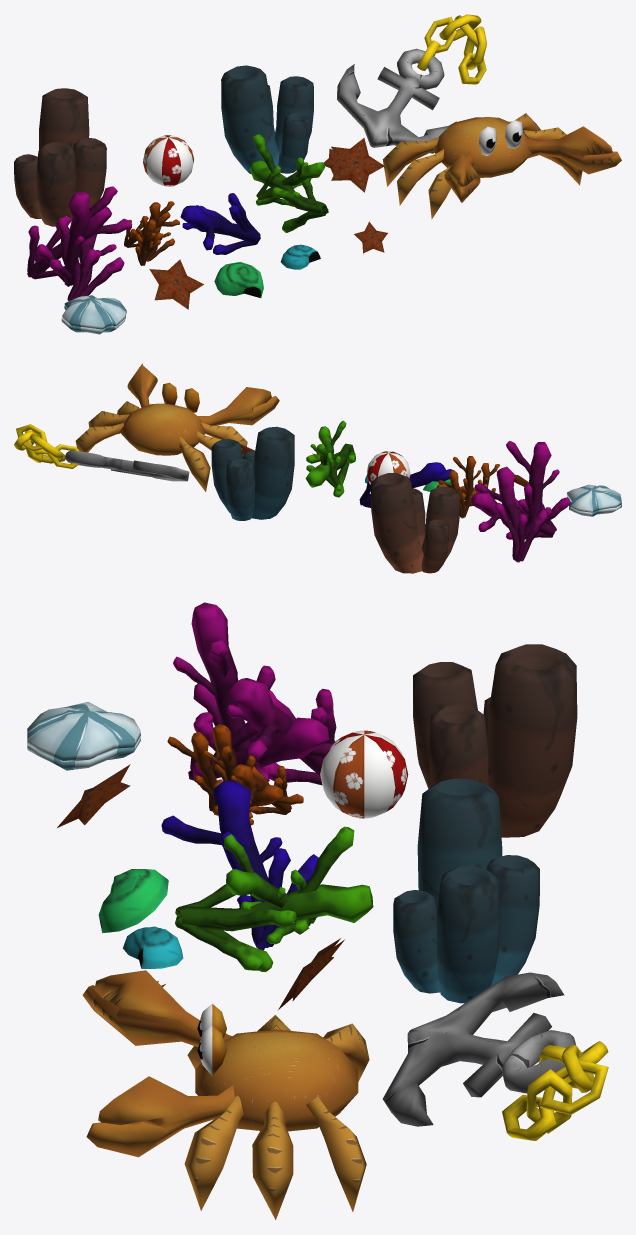
3 views of the same model, one above another, from view 1: azimuth 30°, elevation 25°; view 2: azimuth 150°, elevation 25°; view 3: azimuth 270°, elevation 25° (orthographic). The views are drawn at different scales.
Parts seen in each view (by area): view 1: crab001, Cylinder035, Cylinder047_Material #40_0, Cylinder034, Cylinder025, Cylinder031, Cylinder024, Sphere002, Cylinder023, Object001_Material #36_0, Plane005, Cylinder026 (+3 smaller); view 2: crab001, Cylinder035, Cylinder034, Cylinder025, Cylinder047_Material #40_0, Cylinder031, Cylinder023, Object001_Material #36_0, Sphere002, Cylinder024; view 3: crab001, Cylinder034, Cylinder035, Cylinder047_Material #40_0, Cylinder025, Cylinder031, Sphere002, Cylinder024, Object001_Material #36_0, Cylinder023, Plane005, Plane006 (+3 smaller).
Boxes of the visible parts, x1=… form: crab001: x1=382, y1=113, x2=621, y2=219; Cylinder035: x1=14, y1=88, x2=106, y2=226; Cylinder047_Material #40_0: x1=337, y1=14, x2=486, y2=153; Cylinder034: x1=221, y1=65, x2=313, y2=173; Cylinder025: x1=27, y1=186, x2=132, y2=301; Cylinder031: x1=250, y1=134, x2=328, y2=232; Cylinder024: x1=180, y1=193, x2=260, y2=254; Sphere002: x1=143, y1=135, x2=193, y2=186; Cylinder023: x1=124, y1=201, x2=179, y2=265; Object001_Material #36_0: x1=62, y1=295, x2=126, y2=329; Plane005: x1=214, y1=262, x2=263, y2=298; Cylinder026: x1=149, y1=259, x2=203, y2=309; crab001: x1=75, y1=363, x2=279, y2=491; Cylinder035: x1=370, y1=473, x2=460, y2=573; Cylinder034: x1=211, y1=426, x2=294, y2=520; Cylinder025: x1=470, y1=441, x2=570, y2=562; Cylinder047_Material #40_0: x1=14, y1=424, x2=189, y2=481; Cylinder031: x1=305, y1=420, x2=355, y2=497; Cylinder023: x1=436, y1=456, x2=499, y2=518; Object001_Material #36_0: x1=566, y1=484, x2=621, y2=512; Sphere002: x1=366, y1=451, x2=410, y2=484; Cylinder024: x1=359, y1=462, x2=453, y2=507; crab001: x1=82, y1=970, x2=369, y2=1219; Cylinder034: x1=393, y1=778, x2=539, y2=1003; Cylinder035: x1=413, y1=644, x2=577, y2=837; Cylinder047_Material #40_0: x1=382, y1=972, x2=608, y2=1140; Cylinder025: x1=173, y1=602, x2=336, y2=785; Cylinder031: x1=175, y1=826, x2=373, y2=972; Sphere002: x1=320, y1=730, x2=408, y2=818; Cylinder024: x1=161, y1=780, x2=318, y2=950; Object001_Material #36_0: x1=27, y1=702, x2=140, y2=761; Cylinder023: x1=167, y1=724, x2=303, y2=825; Plane005: x1=98, y1=869, x2=168, y2=933; Plane006: x1=122, y1=926, x2=183, y2=968.
Bounding box in the file's own units: 9.65 × 2.11 × 5.03.
Materials: 13 (13 with a texture image).
